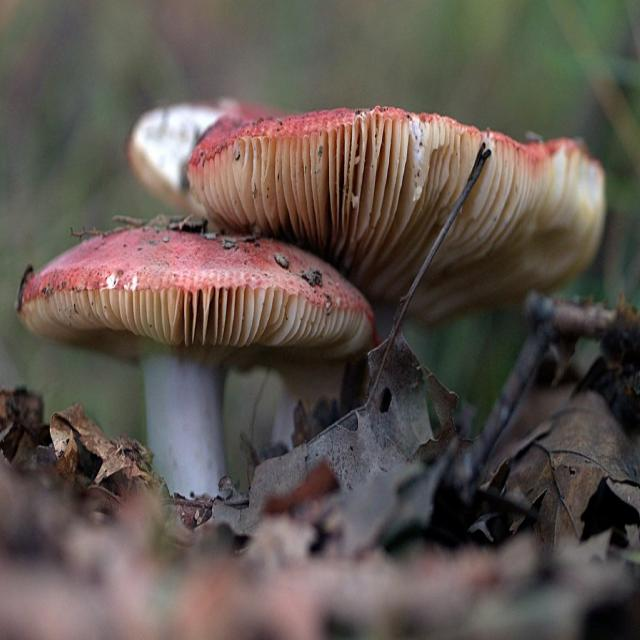Mushroom: (189, 106, 607, 448), (15, 222, 369, 504), (124, 97, 274, 225)
